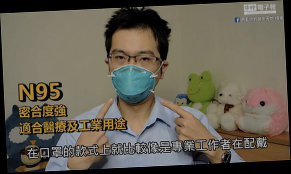with_mask: (109, 46, 161, 104)
